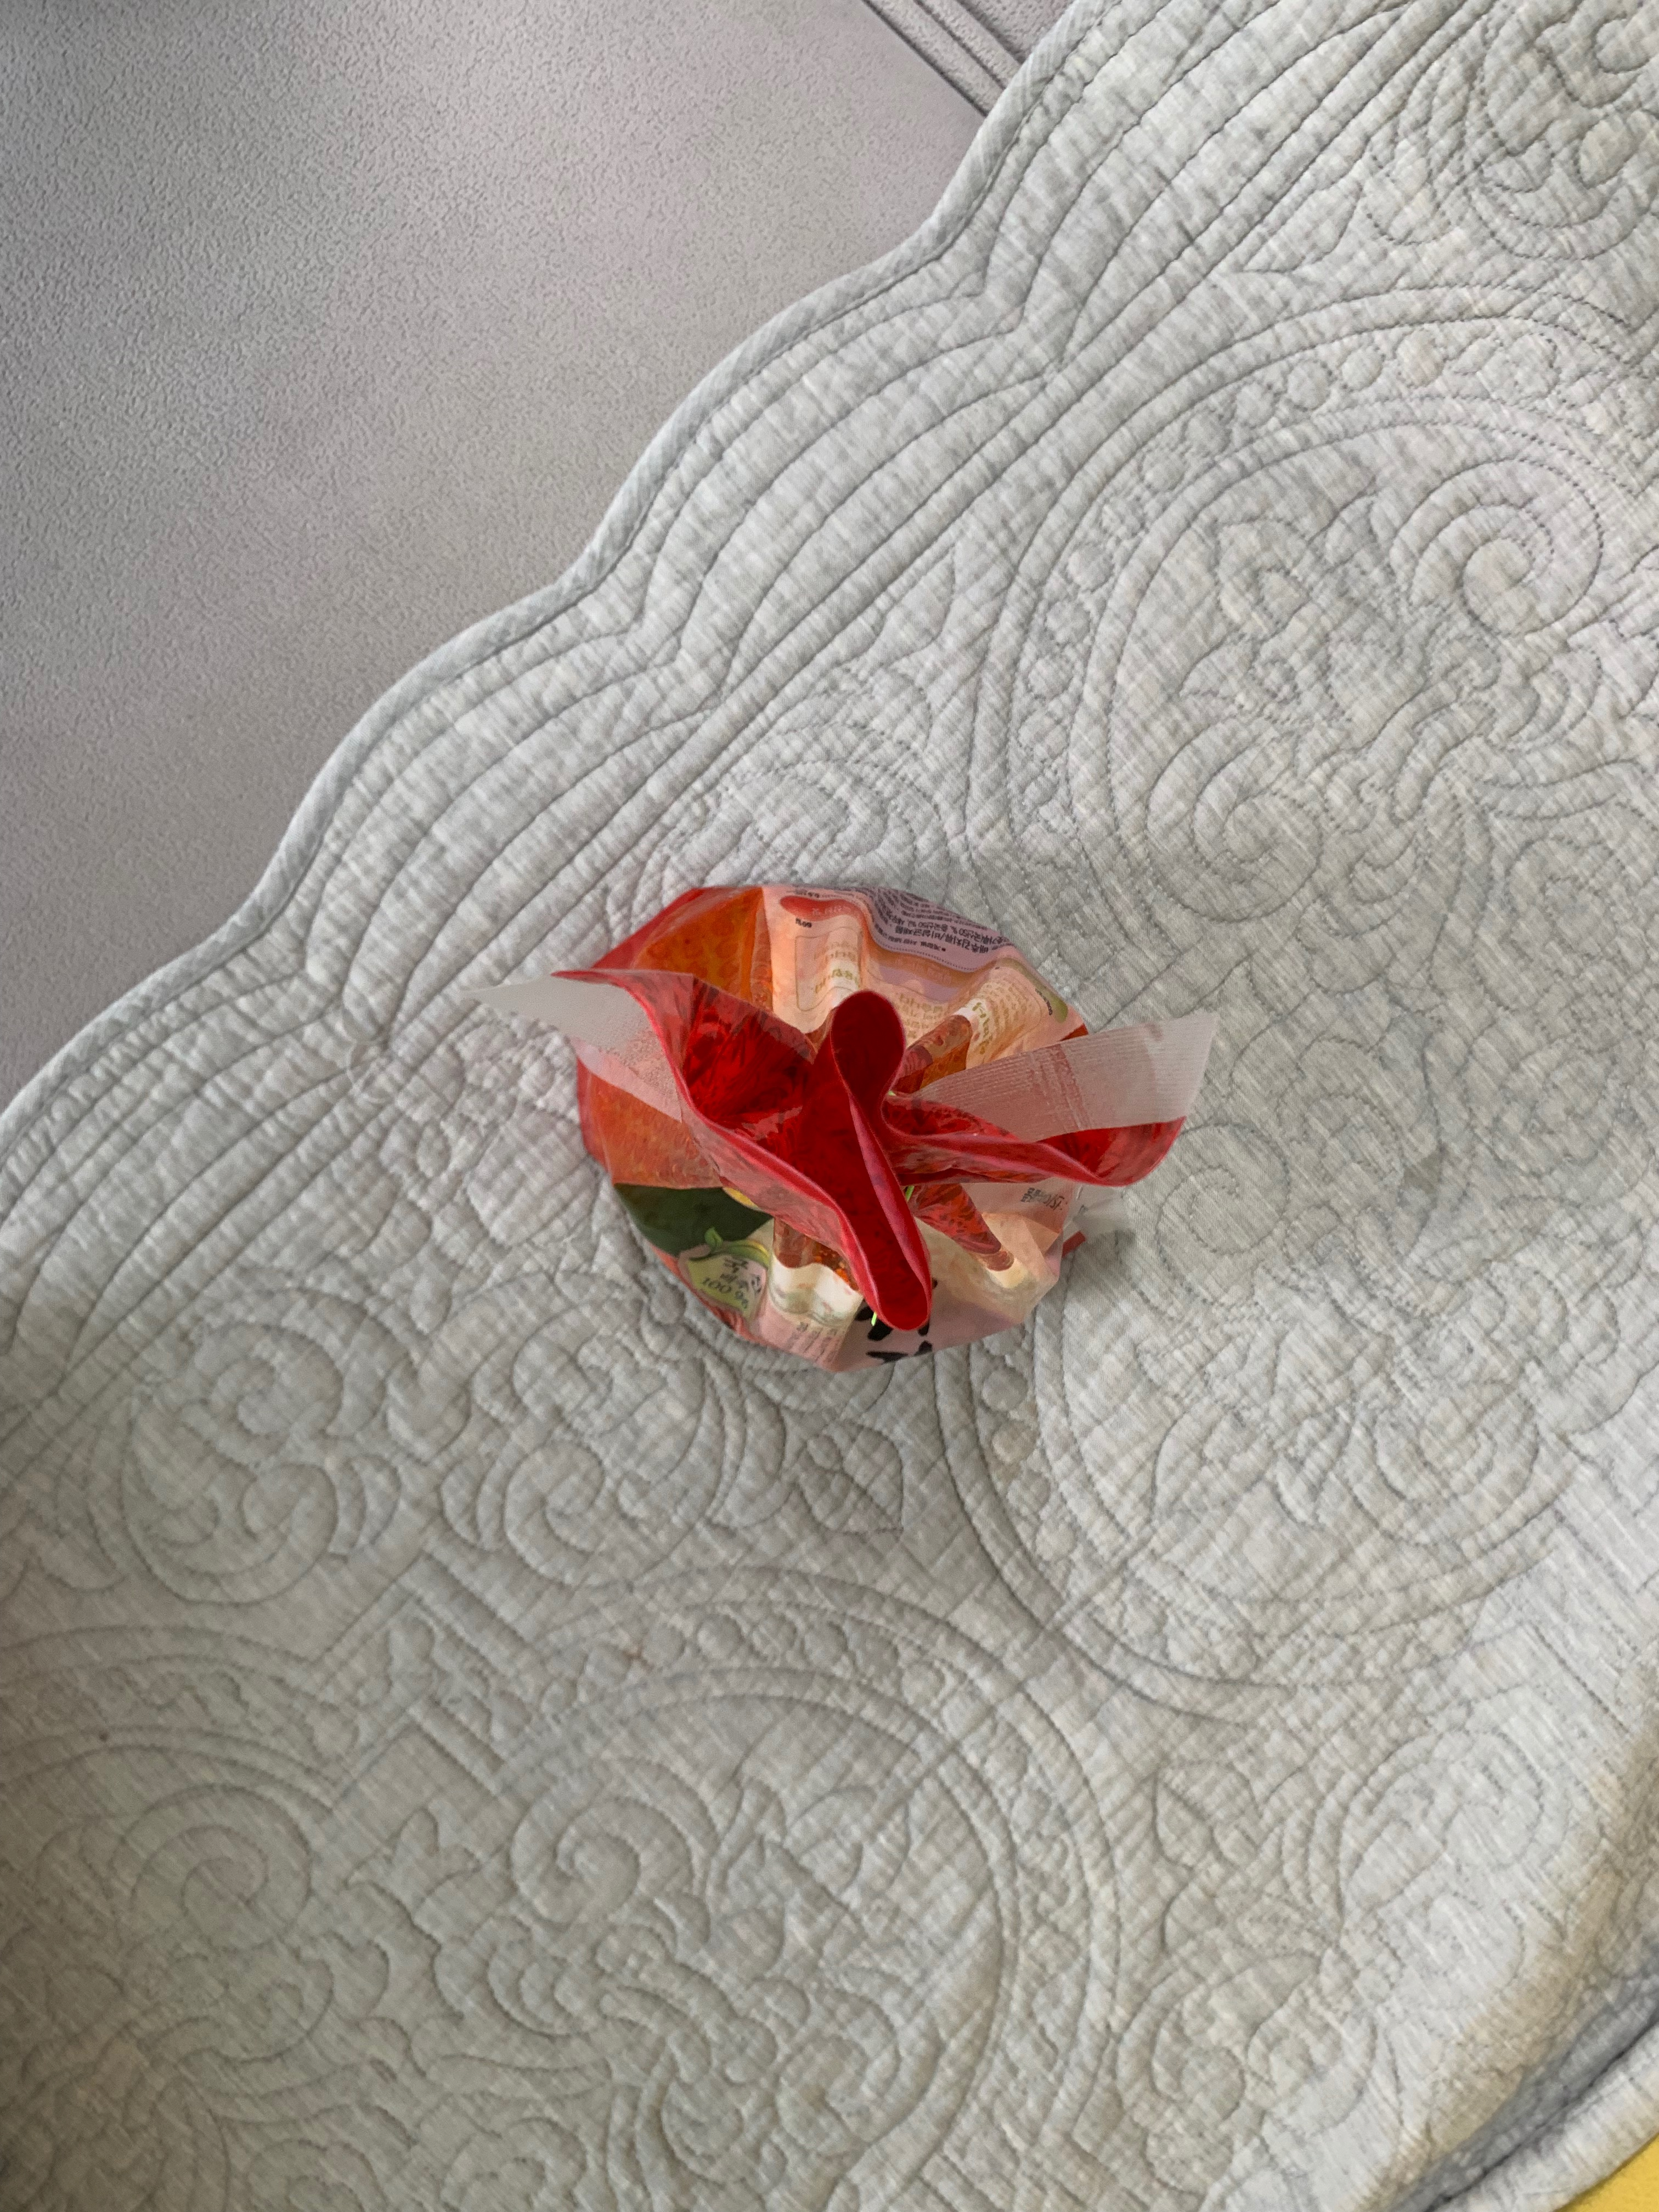kimchi: (575, 881, 1134, 1379)
